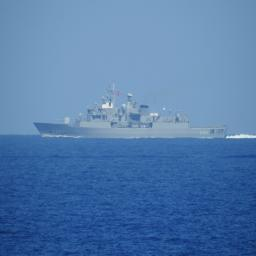Fragata: (34, 77, 230, 140)
